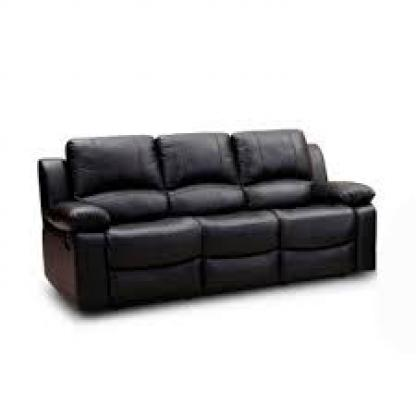sofa: (24, 128, 388, 314)
